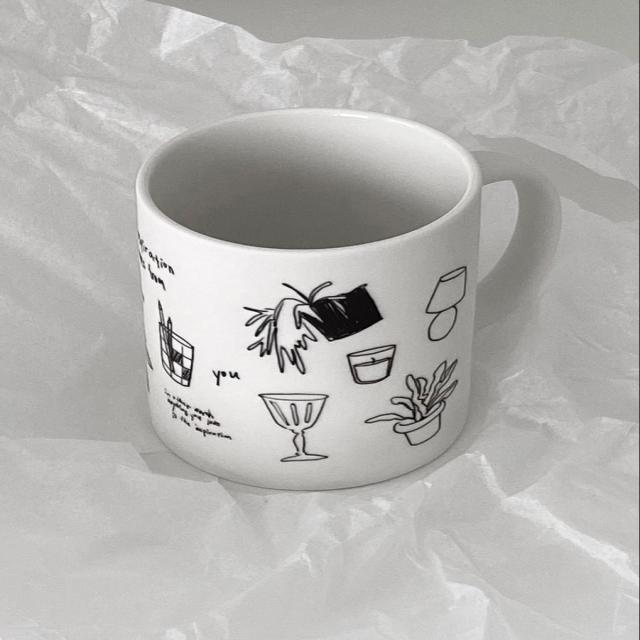glass cup: (137, 109, 561, 492)
